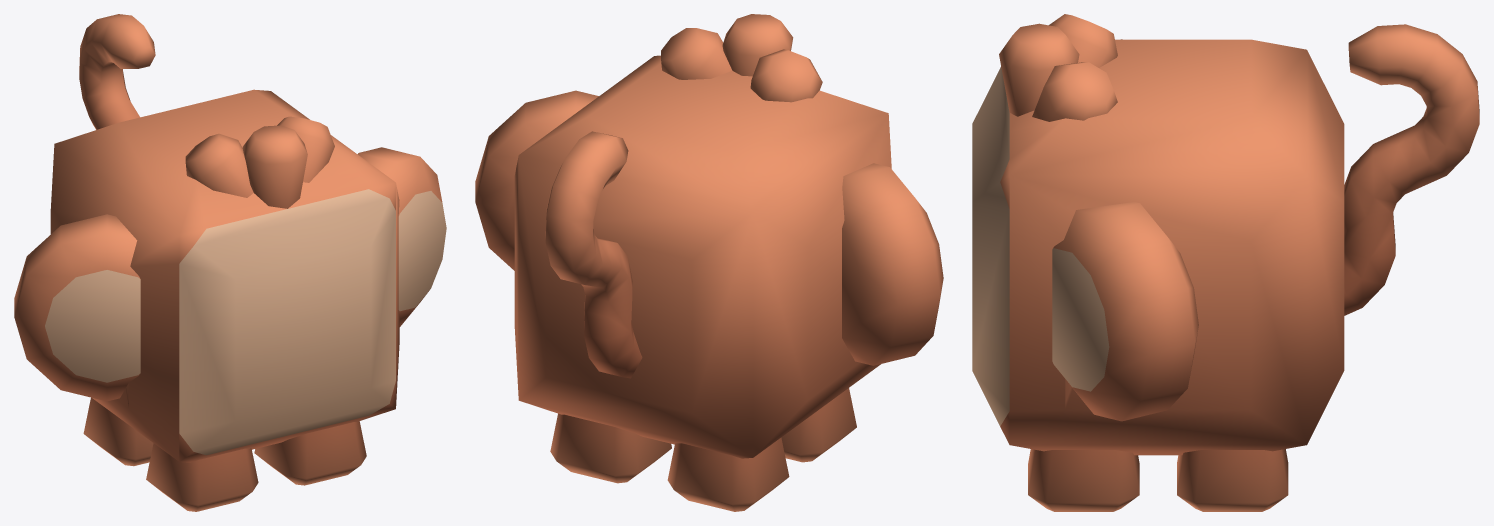
Rendered from animal-monkey-no-face.glb.
The picture shows the model from 3 angles, left to right: view 1: azimuth 30°, elevation 25°; view 2: azimuth 150°, elevation 25°; view 3: azimuth 270°, elevation 25°; orthographic projection. The views are drawn at different scales.
Visible parts, largest first — view 1: body, tail, leg-front-right, leg-front-left, leg-back-right; view 2: body, tail, leg-back-right, leg-back-left, leg-front-right; view 3: body, tail, leg-front-left, leg-back-left.
Boxes of the visible parts, box(x1,y1,x2,y2) form: body: box(14, 89, 446, 462); tail: box(79, 14, 155, 129); leg-front-right: box(146, 443, 258, 511); leg-front-left: box(254, 421, 366, 485); leg-back-right: box(83, 397, 153, 466); body: box(475, 14, 943, 458); tail: box(545, 131, 642, 378); leg-back-right: box(667, 437, 789, 511); leg-back-left: box(550, 413, 671, 483); leg-front-right: box(781, 388, 856, 462); body: box(972, 14, 1344, 455); tail: box(1344, 24, 1479, 315); leg-front-left: box(1028, 449, 1139, 511); leg-back-left: box(1177, 449, 1288, 511).
Bounding box in the file's own units: 1.98 × 1.61 × 1.71.
Materials: 1 (1 with a texture image).
